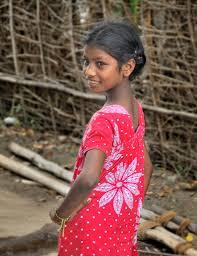Human: (46, 19, 160, 256)
